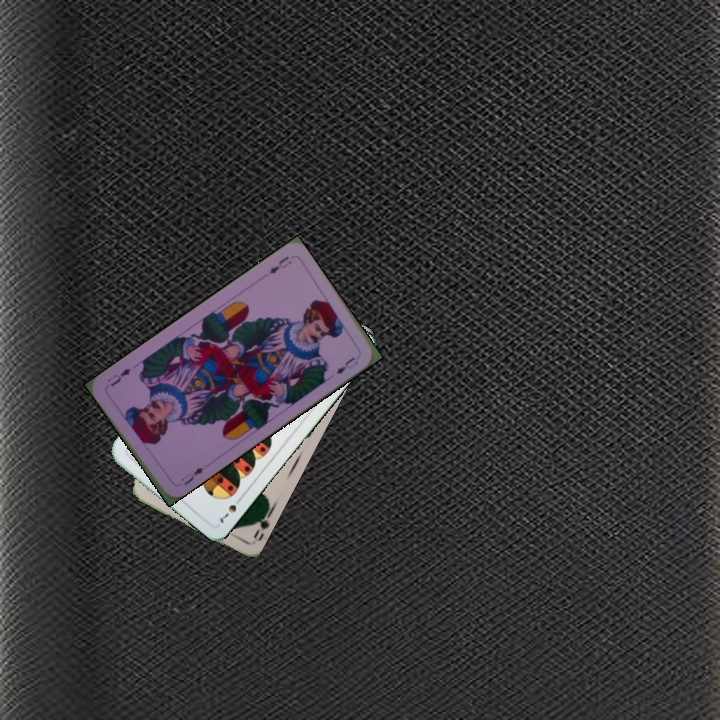EU: (177, 463, 206, 488), (265, 252, 295, 276)
GO: (248, 505, 275, 541)
S7: (216, 492, 245, 526)
